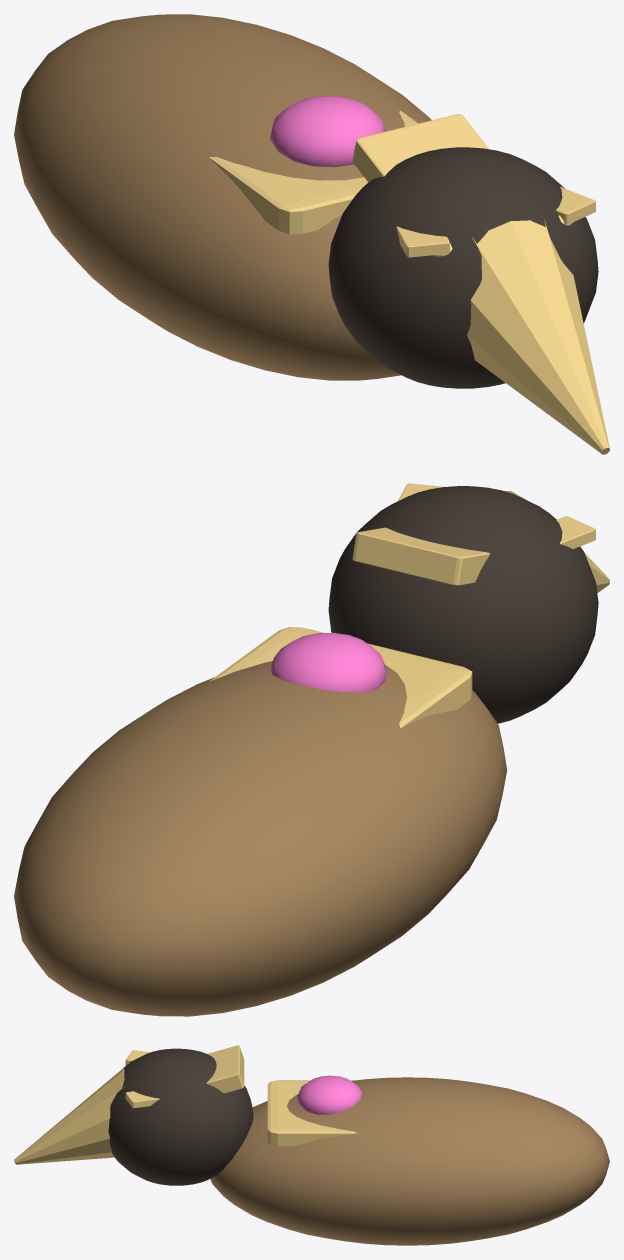
The model's file is SM_Keeper_Sokar_Body.fbx.
3 views of the same model, one above another, from view 1: azimuth 30°, elevation 25°; view 2: azimuth 150°, elevation 25°; view 3: azimuth 270°, elevation 25° (orthographic). The views are drawn at different scales.
Visible parts, largest first — view 1: SM_Keeper_Sokar_Body; view 2: SM_Keeper_Sokar_Body; view 3: SM_Keeper_Sokar_Body.
Boxes of the visible parts, x1=… form: SM_Keeper_Sokar_Body: x1=14, y1=14, x2=609, y2=454; SM_Keeper_Sokar_Body: x1=14, y1=483, x2=609, y2=1016; SM_Keeper_Sokar_Body: x1=14, y1=1045, x2=609, y2=1245.
Bounding box in the file's own units: 1.6 × 1.38 × 4.26.
